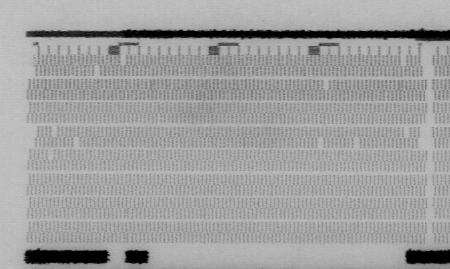Broken hole: (26, 51, 39, 78), (25, 124, 39, 148), (418, 54, 429, 80), (417, 127, 429, 149), (91, 64, 104, 79), (397, 55, 411, 68), (401, 127, 414, 140), (117, 54, 129, 67), (45, 149, 57, 162), (351, 137, 364, 149), (49, 125, 60, 139), (321, 79, 333, 91), (314, 136, 326, 148), (71, 136, 82, 148)
